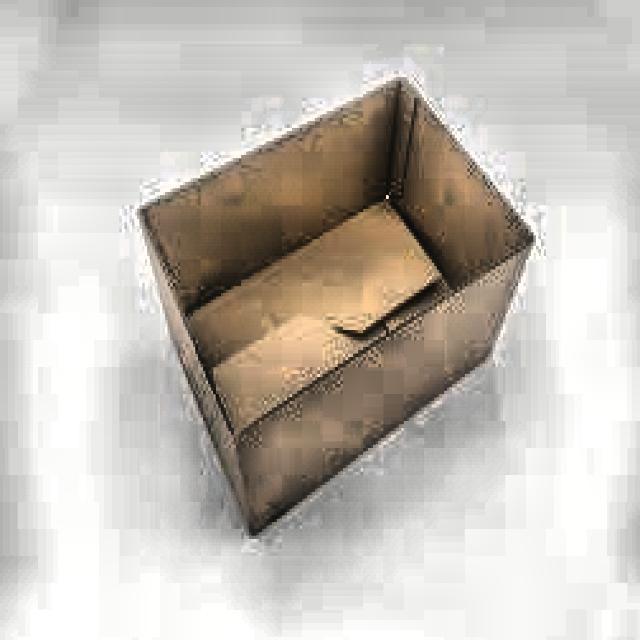cardboard: (134, 74, 534, 536)
